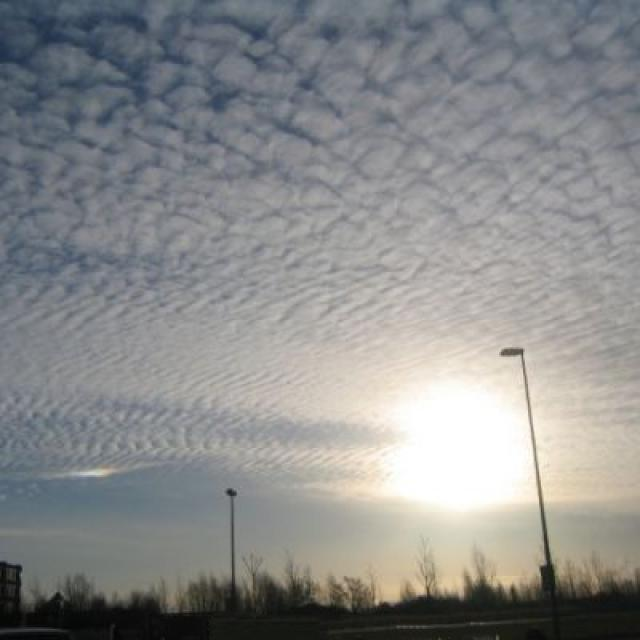Cc: (1, 21, 640, 293)
